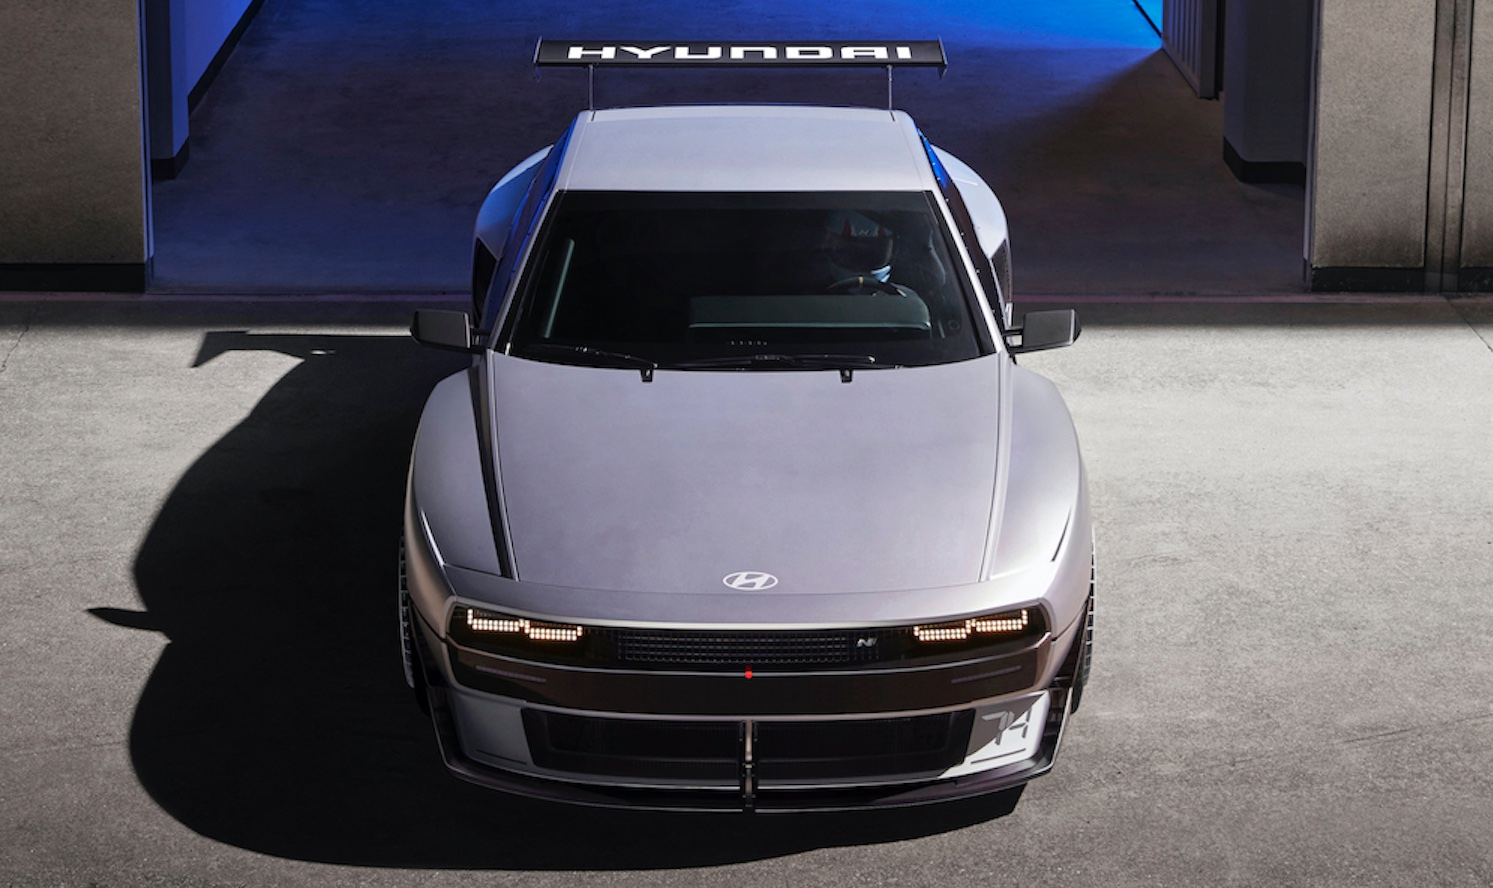car: (380, 26, 1107, 831)
